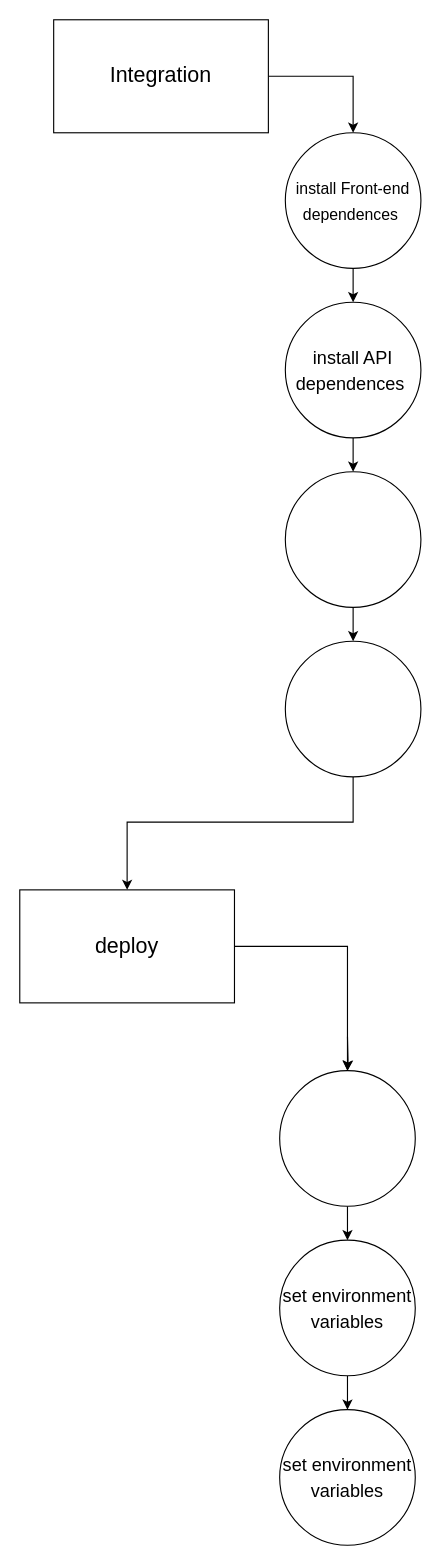
Some shapes in this 441 by 1565 pixel diagram are drawn without their labels. The shapes that lost their labels are listed below. From the top down, each one's centre as x and y in pixels, then its label:
At pixel 352 539: "Front-end Lint".
At pixel 352 708: "Front-end build".
At pixel 347 1138: "API deploy to EB".
